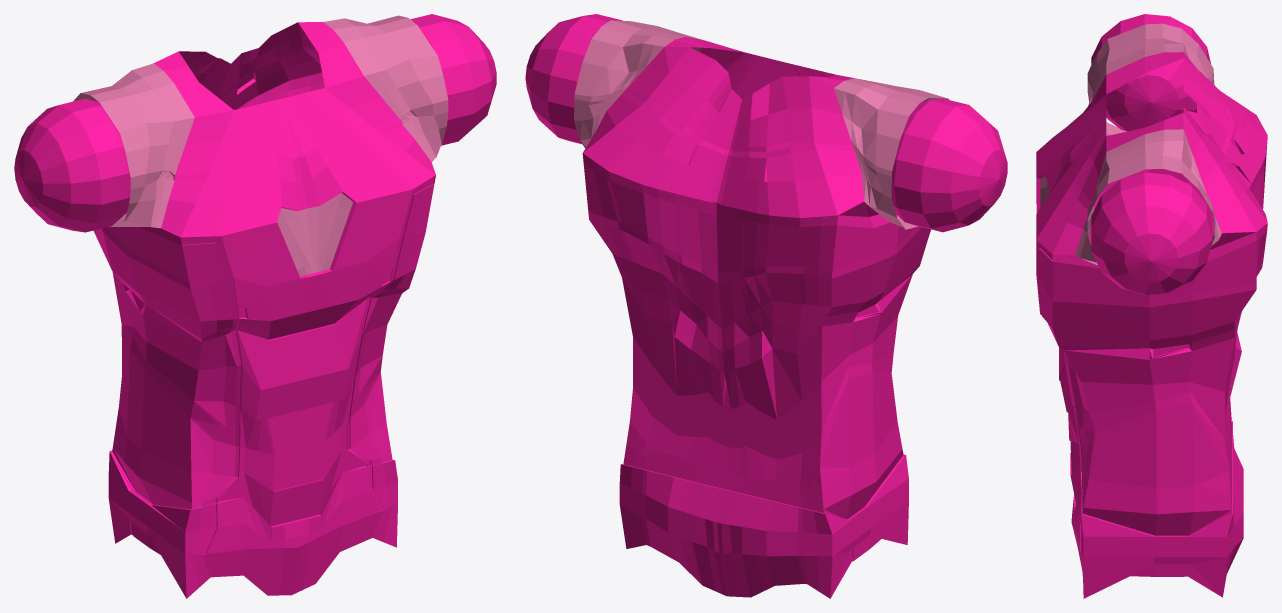
The model's file is body_robot.fbx.
The picture shows the model from 3 angles, left to right: view 1: azimuth 30°, elevation 25°; view 2: azimuth 150°, elevation 25°; view 3: azimuth 270°, elevation 25°; orthographic projection. The views are drawn at different scales.
Visible parts, largest first — view 1: body; view 2: body; view 3: body.
Boxes of the visible parts, x1=… form: body: x1=14, y1=14, x2=496, y2=598; body: x1=525, y1=14, x2=1007, y2=598; body: x1=1036, y1=14, x2=1267, y2=598.
Bounding box in the file's own units: 0.6251 × 0.6664 × 0.2878.
